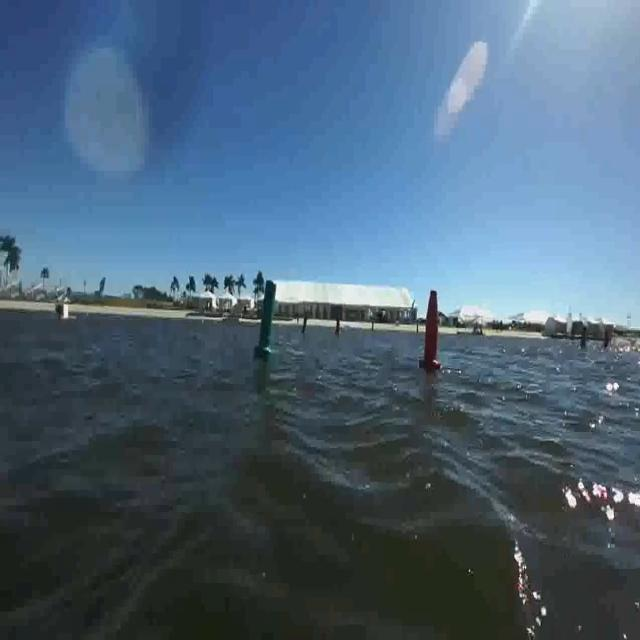green-column-buoy: (253, 277, 280, 358)
red-column-buoy: (420, 288, 442, 372)
